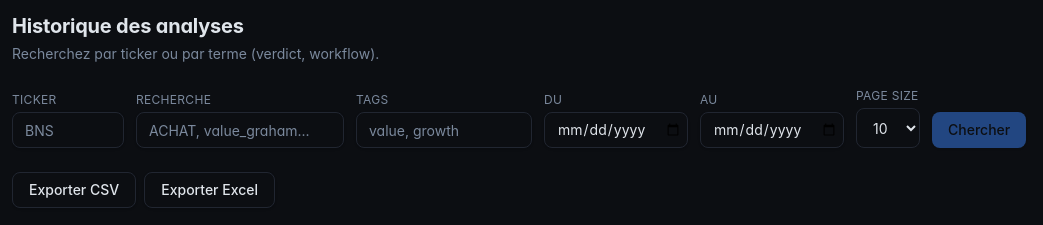
Scenario: HistorySearch (Sprint 73 + Sprint 90) › le bouton est activé dès que le champ recherche est non vide
Check: the button with test id "history-search-btn" is disabled, box left=932, top=112, right=1026, bottom=148
Type "graham" into the field with test id "history-search-input" at (240, 130), box left=136, top=112, right=344, bottom=148
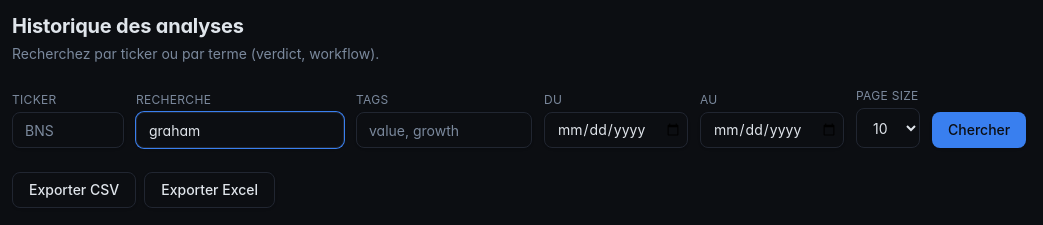
Check: the button with test id "history-search-btn" is enabled, box left=932, top=112, right=1026, bottom=148
